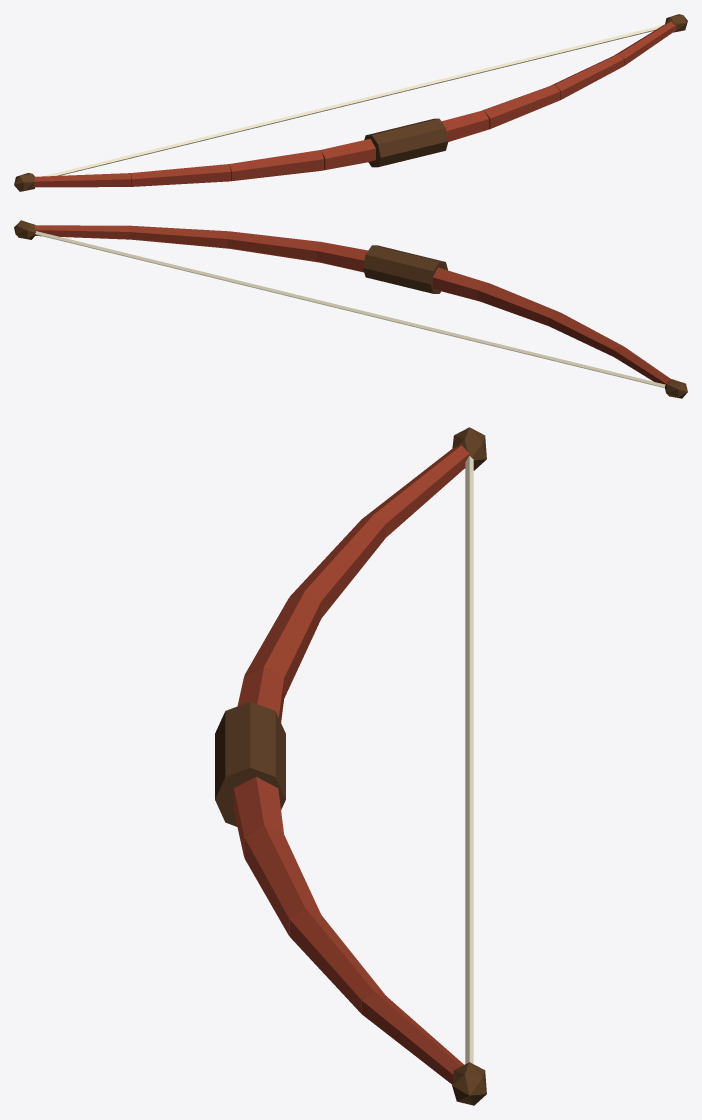
Rendered from drop_yew_longbow.glb.
3 views of the same model, one above another, from view 1: azimuth 30°, elevation 25°; view 2: azimuth 150°, elevation 25°; view 3: azimuth 270°, elevation 25° (orthographic). The views are drawn at different scales.
Parts seen in each view (by area): view 1: drop_yew_longbow; view 2: drop_yew_longbow; view 3: drop_yew_longbow.
Part boxes in pixels (x1,y1,x2,y2): drop_yew_longbow: (14, 14, 687, 191); drop_yew_longbow: (14, 220, 687, 398); drop_yew_longbow: (215, 427, 486, 1105).
Bounding box in the file's own units: 1.19 × 0.0544 × 0.2086.
